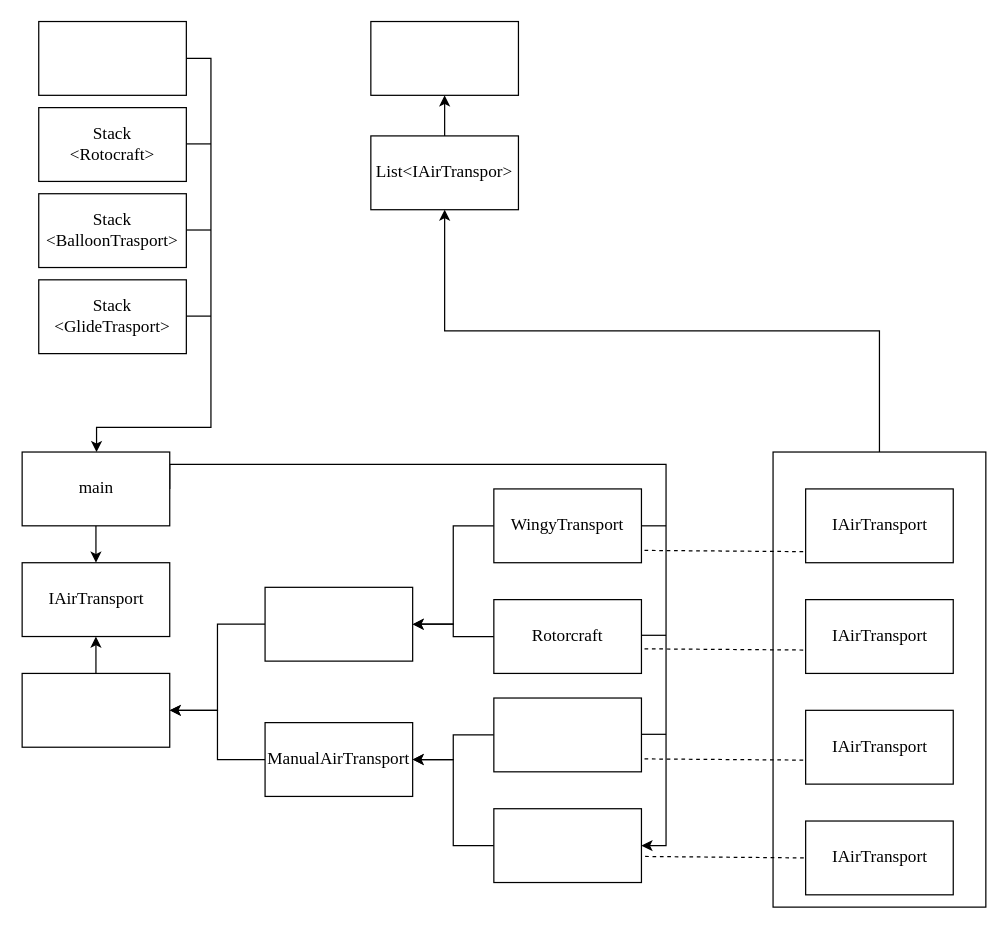
This 1007x929 diagram has some shape labels left out. Each missing label, with the centre of its shape:
AirTransport: point 95,709
BalloonTransport: point 567,734
EngineAirTransport: point 338,623
GlideTransport: point 567,845
ListVoid: point 444,57
Stack <WingyTrasport>: point 112,57
